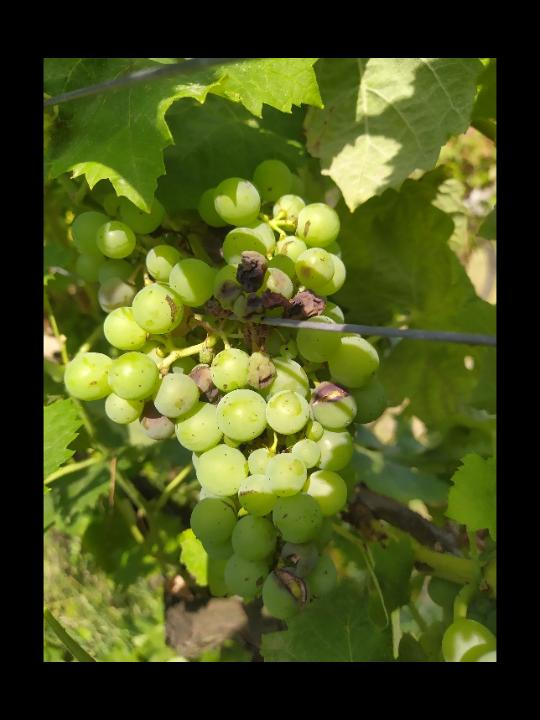grape: (60, 159, 388, 631)
